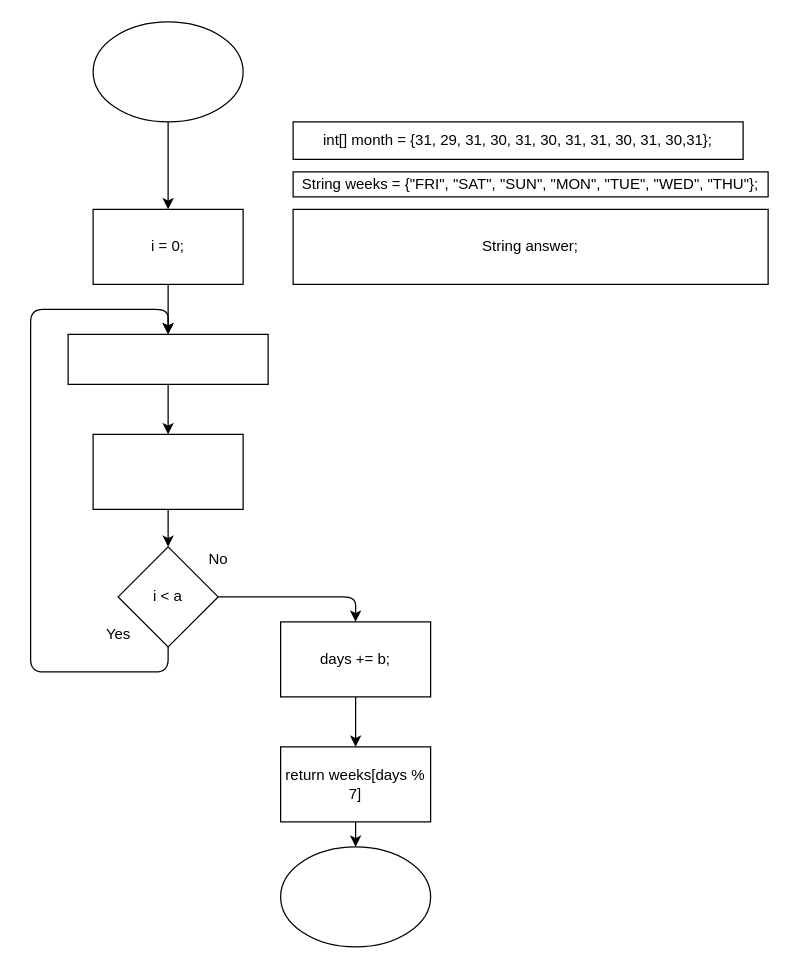
The diagram is 790 pixels wide and 969 high, and some of its shapes have lost their labels. The shapes that lost their labels are listed below. From the top down, each one's box as (x1, y1, x2, y2) in pixels, then its label:
(92, 21, 243, 122): start
(67, 333, 268, 384): days =+ month[a - 1 - i]
(92, 433, 243, 509): i++;
(279, 846, 431, 947): End
